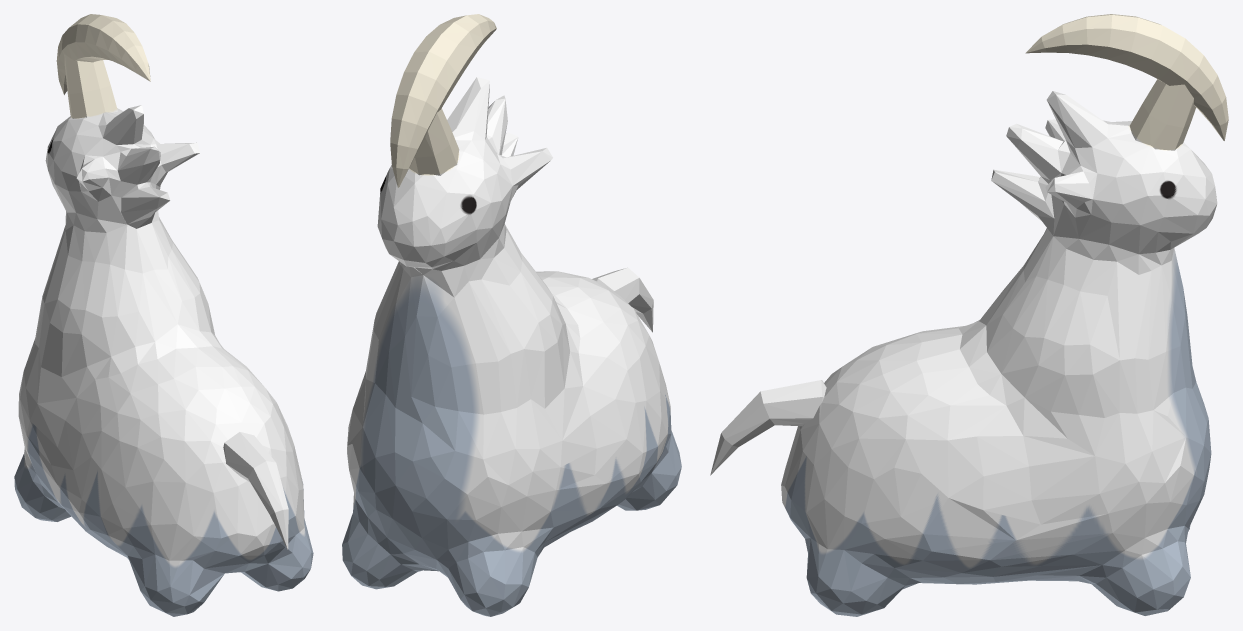
Rendered from animal_thrumbo_blob.obj.
3 renders of one model, left to right at view 1: azimuth 30°, elevation 25°; view 2: azimuth 150°, elevation 25°; view 3: azimuth 270°, elevation 25°, orthographic. The views are drawn at different scales.
Parts seen in each view (by area): view 1: animal_thrumbo_blob; view 2: animal_thrumbo_blob; view 3: animal_thrumbo_blob.
Boxes of the visible parts, <box> form: animal_thrumbo_blob: <box>14,14,313,616</box>; animal_thrumbo_blob: <box>342,14,681,616</box>; animal_thrumbo_blob: <box>710,14,1228,616</box>.
Bounding box in the file's own units: 1.03 × 2.49 × 2.06.
